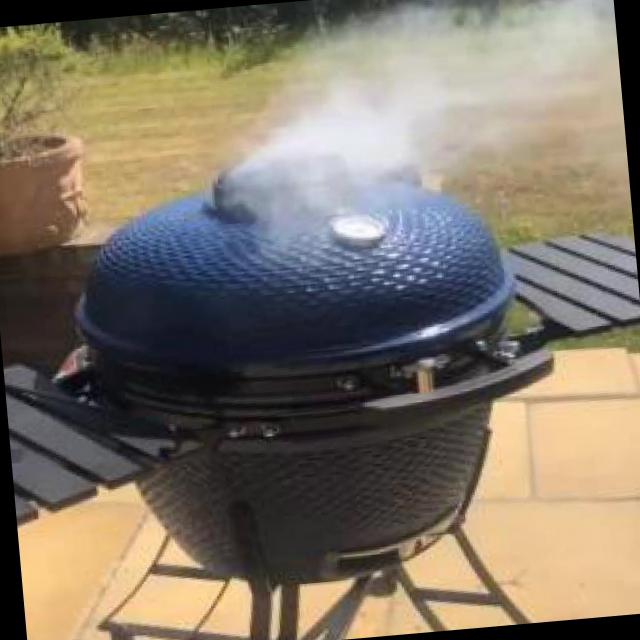smoke: (204, 0, 605, 222)
